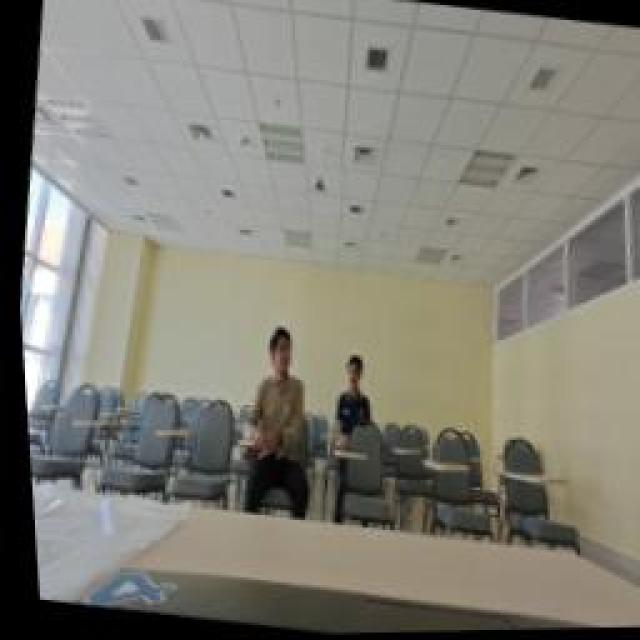study: (218, 315, 328, 520), (318, 352, 380, 458)
